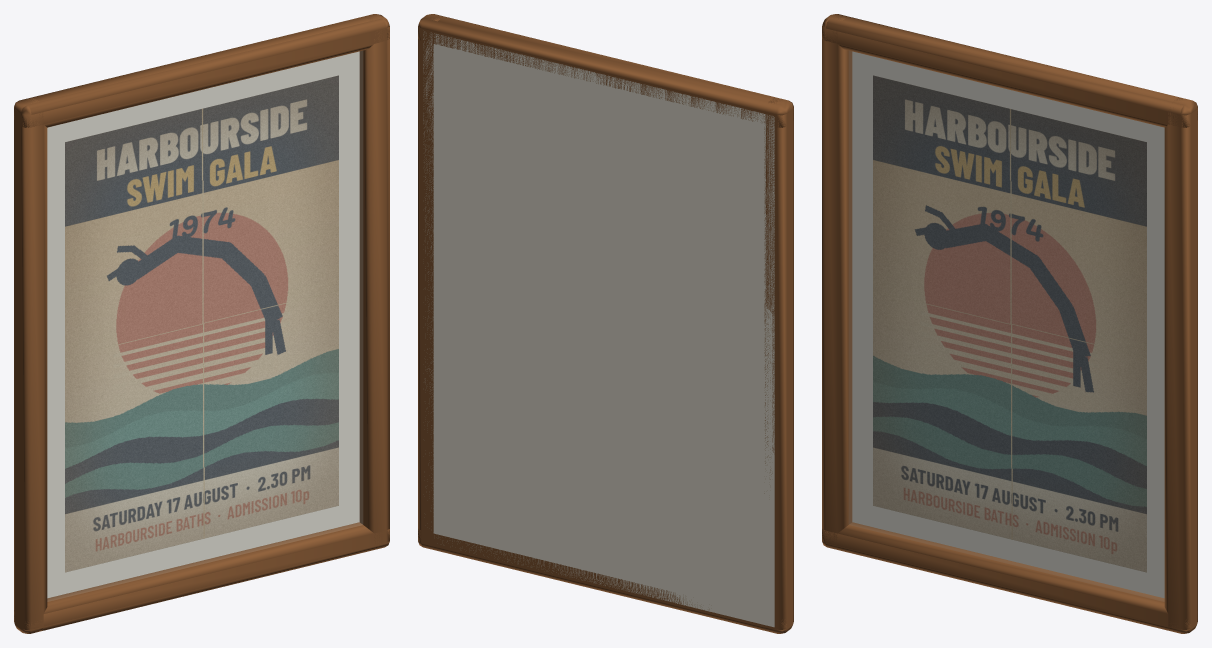
The model's file is poster_gala.glb.
The picture shows the model from 3 angles, left to right: view 1: azimuth 30°, elevation 25°; view 2: azimuth 150°, elevation 25°; view 3: azimuth 330°, elevation 25°; orthographic projection.
Parts seen in each view (by area): view 1: PosterGalaBody, Glass_Poster; view 2: PosterGalaBody; view 3: PosterGalaBody, Glass_Poster.
Part boxes in pixels (x1,y1,x2,y2): PosterGalaBody: [14, 14, 389, 633]; Glass_Poster: [48, 51, 362, 600]; PosterGalaBody: [418, 14, 793, 633]; PosterGalaBody: [822, 14, 1197, 633]; Glass_Poster: [849, 51, 1163, 600].
Size of the model in its own units: 0.43 by 0.59 by 0.028.
4 materials, 1 textured.
